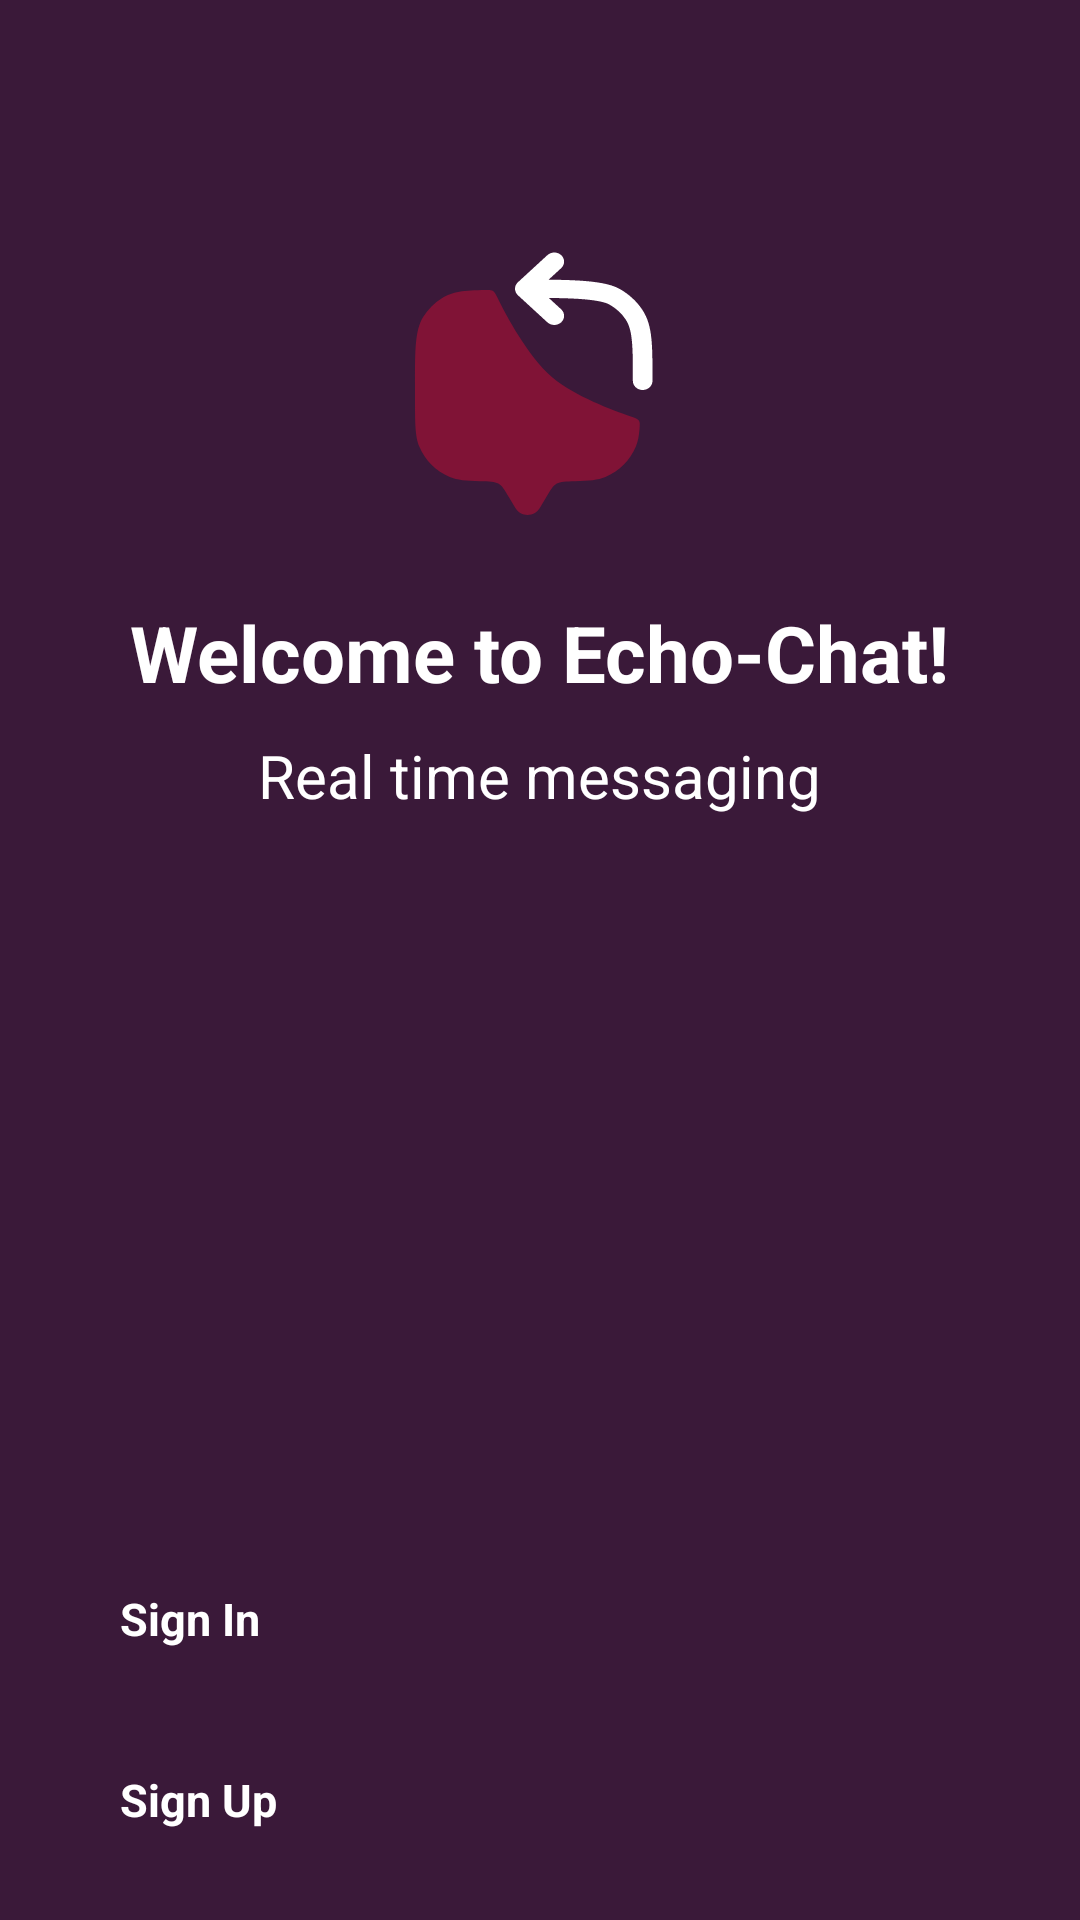

Named icons in this screenshot (1080 x 1920) and their centers, (x,y):
chat square arrow: (534,383)
